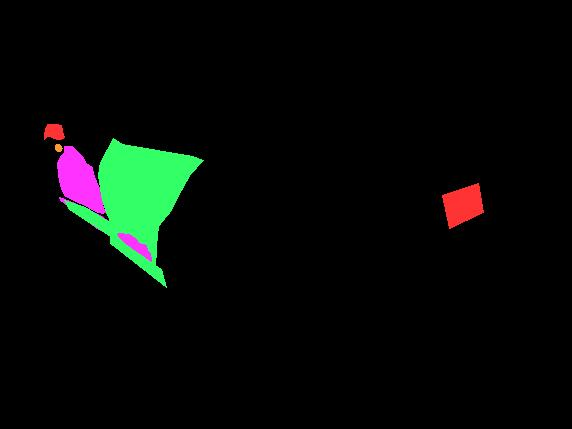Broken part: (98, 138, 203, 271), (64, 200, 166, 287)
Dent: (57, 146, 105, 213), (59, 197, 117, 240), (115, 233, 151, 264)
Missing part: (442, 183, 483, 228), (44, 124, 64, 139)
Paint chip: (55, 144, 62, 151)
Scratch: (104, 199, 133, 233), (65, 181, 84, 199)
